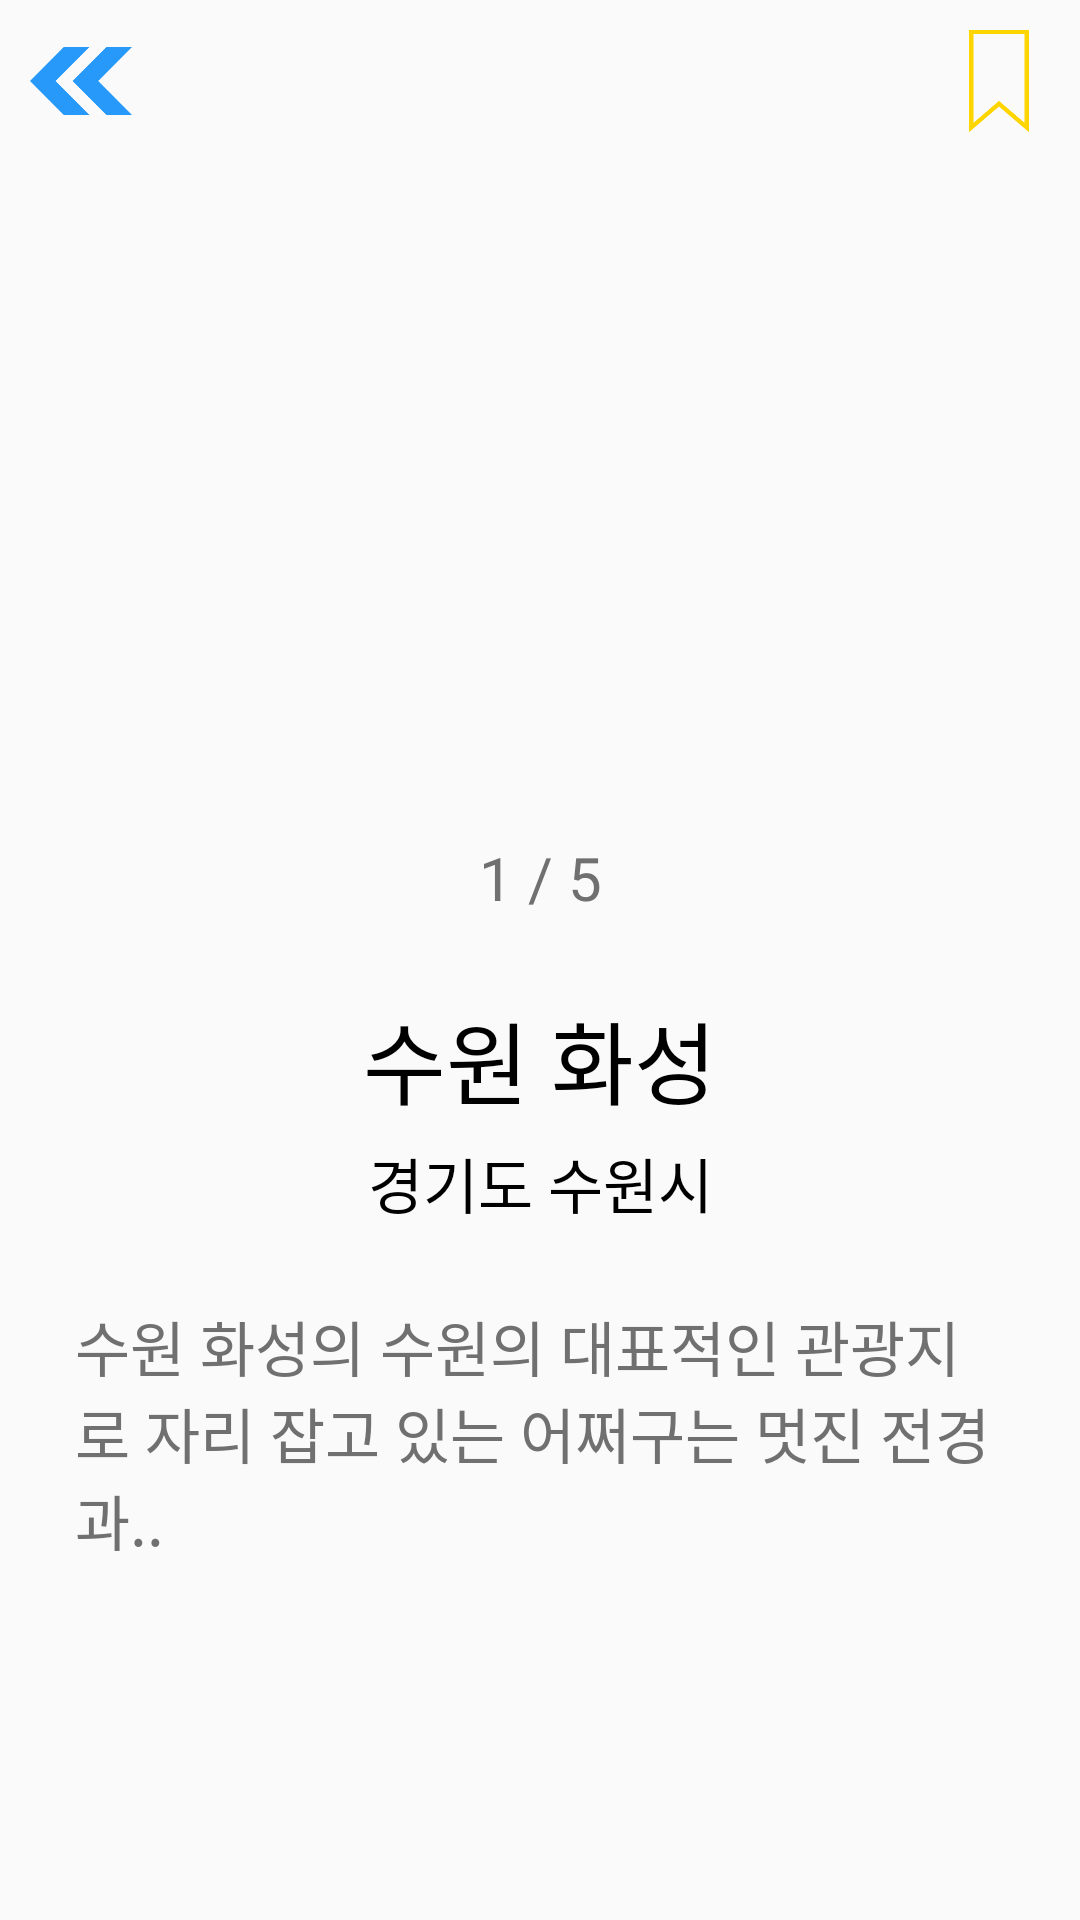

Where to tap for icons on this 1080w x 1920h app screen, as [x,y]:
bookmark line: [999,81]
double arrow: [81,81]
